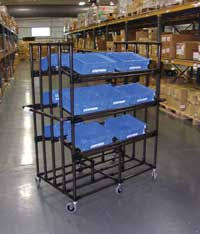Carts: (28, 40, 163, 213)
